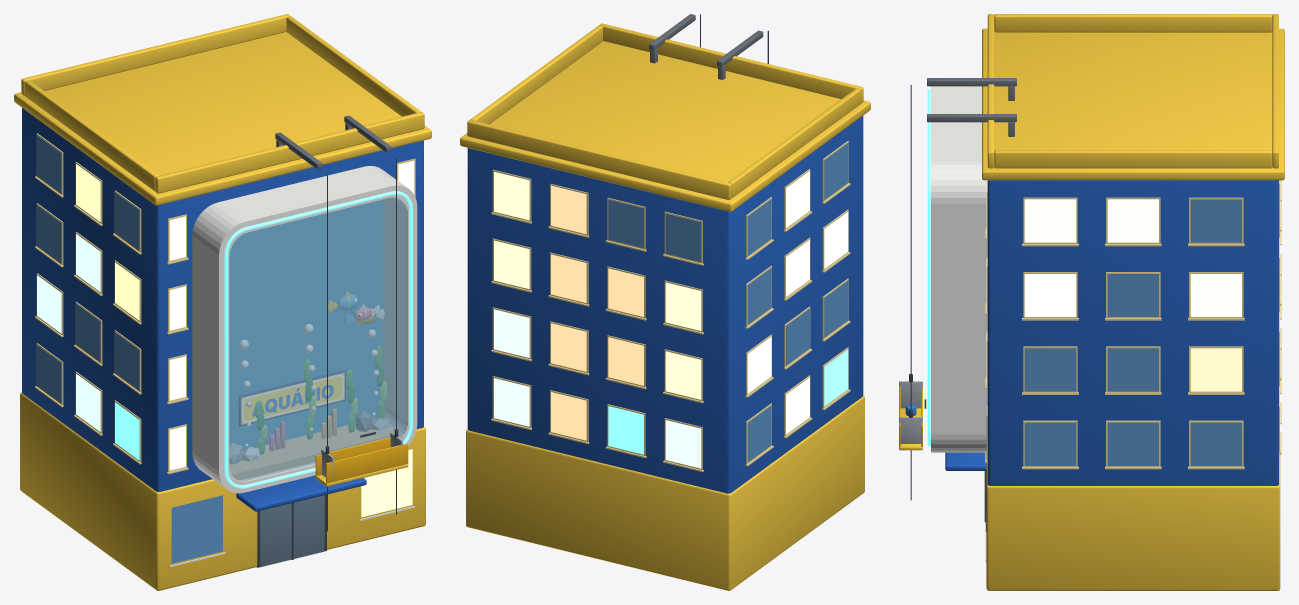
File: predio_aquario.glb
The picture shows the model from 3 angles, left to right: view 1: azimuth 30°, elevation 25°; view 2: azimuth 150°, elevation 25°; view 3: azimuth 270°, elevation 25°; orthographic projection. The views are drawn at different scales.
Parts seen in each view (by area): view 1: predio_aquario, gondola; view 2: predio_aquario; view 3: predio_aquario, gondola.
Part boxes in pixels (bbox=[...]): predio_aquario: bbox=[14, 14, 431, 590]; gondola: bbox=[315, 429, 408, 486]; predio_aquario: bbox=[460, 14, 870, 590]; predio_aquario: bbox=[910, 14, 1284, 590]; gondola: bbox=[899, 374, 926, 450].
Size of the model in its own units: 12.84 by 18.45 by 14.57.
Materials: 10 (2 with a texture image).
